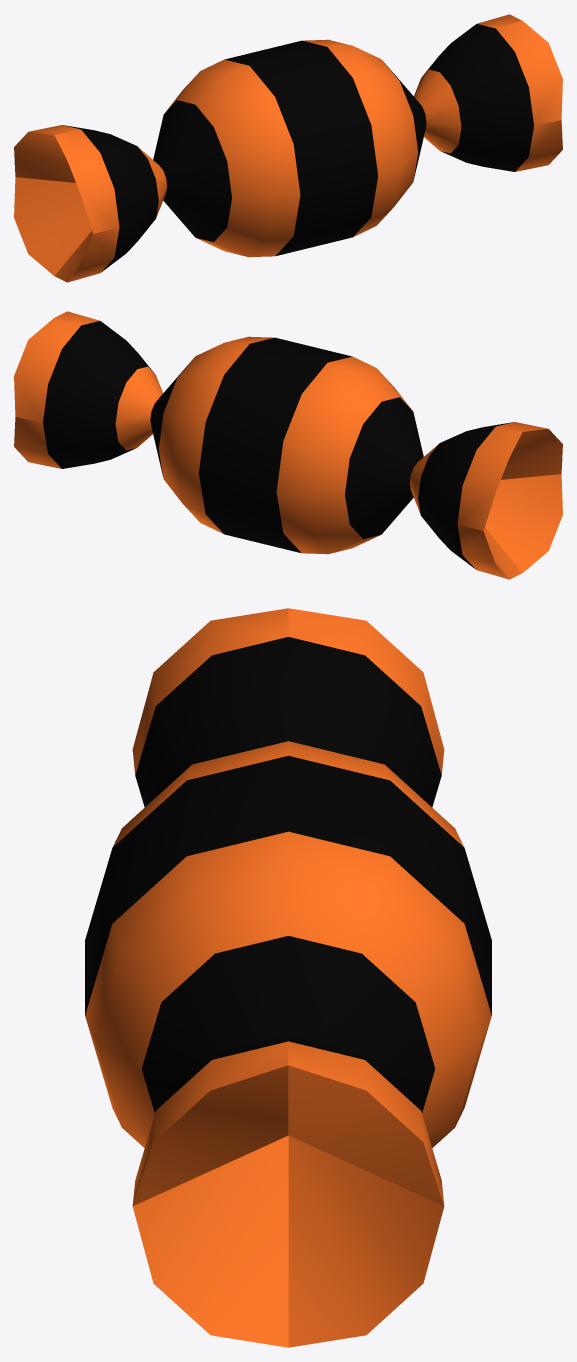
Rendered from candyB.glb.
3 views of the same model, one above another, from view 1: azimuth 30°, elevation 25°; view 2: azimuth 150°, elevation 25°; view 3: azimuth 270°, elevation 25° (orthographic). The views are drawn at different scales.
Parts seen in each view (by area): view 1: candyB; view 2: candyB; view 3: candyB.
Boxes of the visible parts, x1,y1,x2,y2 form: candyB: (14, 14, 562, 282); candyB: (14, 311, 562, 579); candyB: (85, 608, 491, 1347).
Size of the model in its own units: 0.9694 by 0.3546 by 0.3546.
